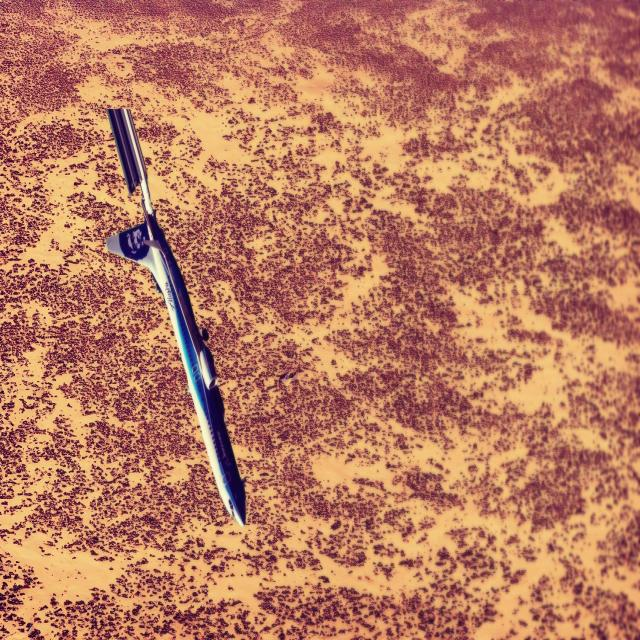airplane: (105, 105, 246, 528)
